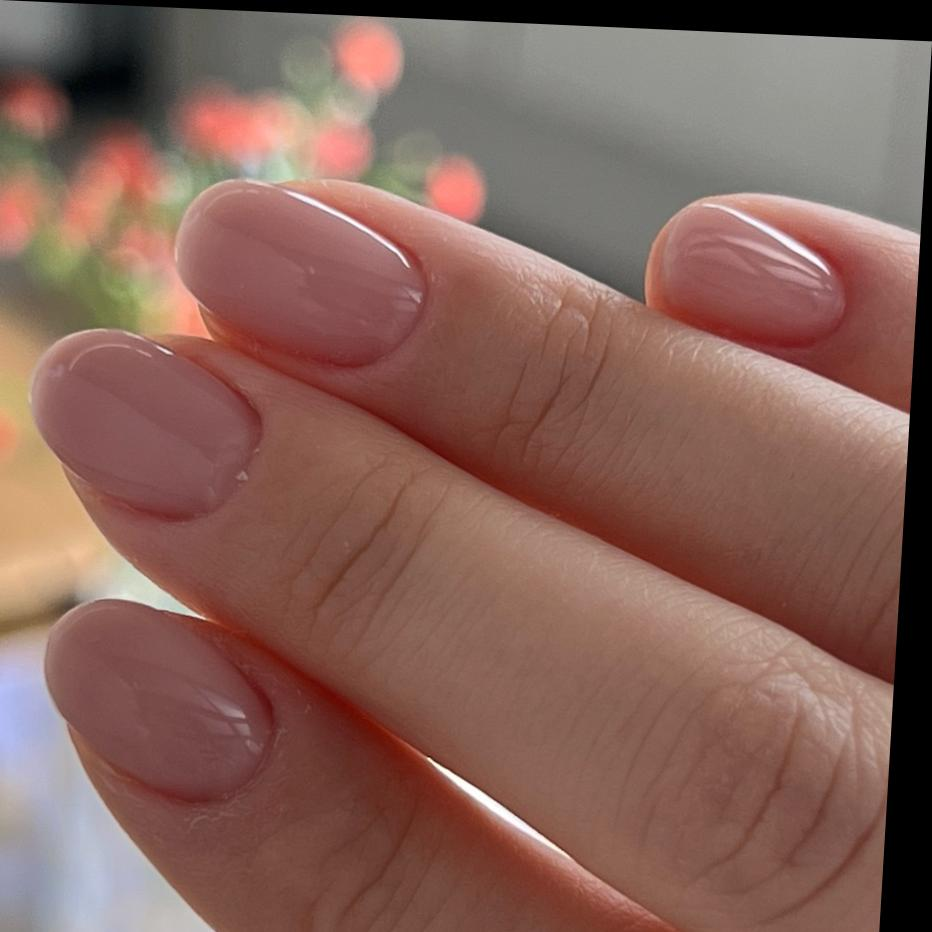nail: (167, 172, 438, 371), (36, 594, 288, 807), (23, 322, 270, 524), (641, 195, 855, 351)
